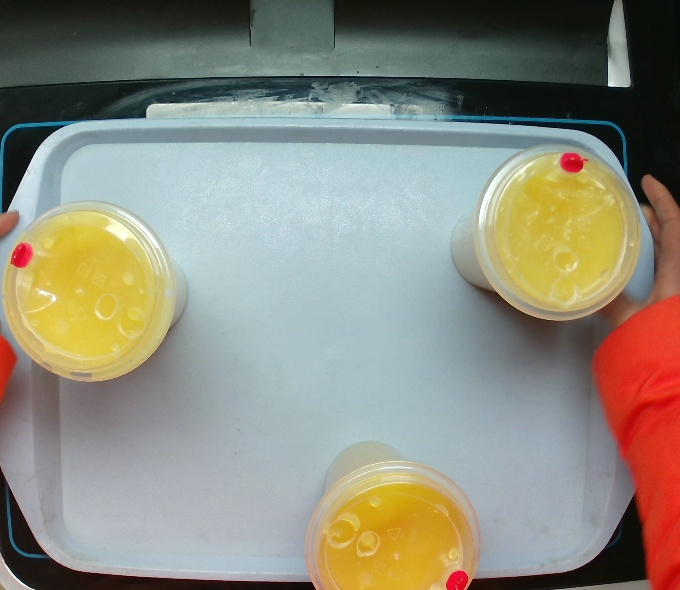wcq-ChengZhi: (1, 197, 190, 386), (448, 140, 642, 322), (301, 440, 481, 590)
